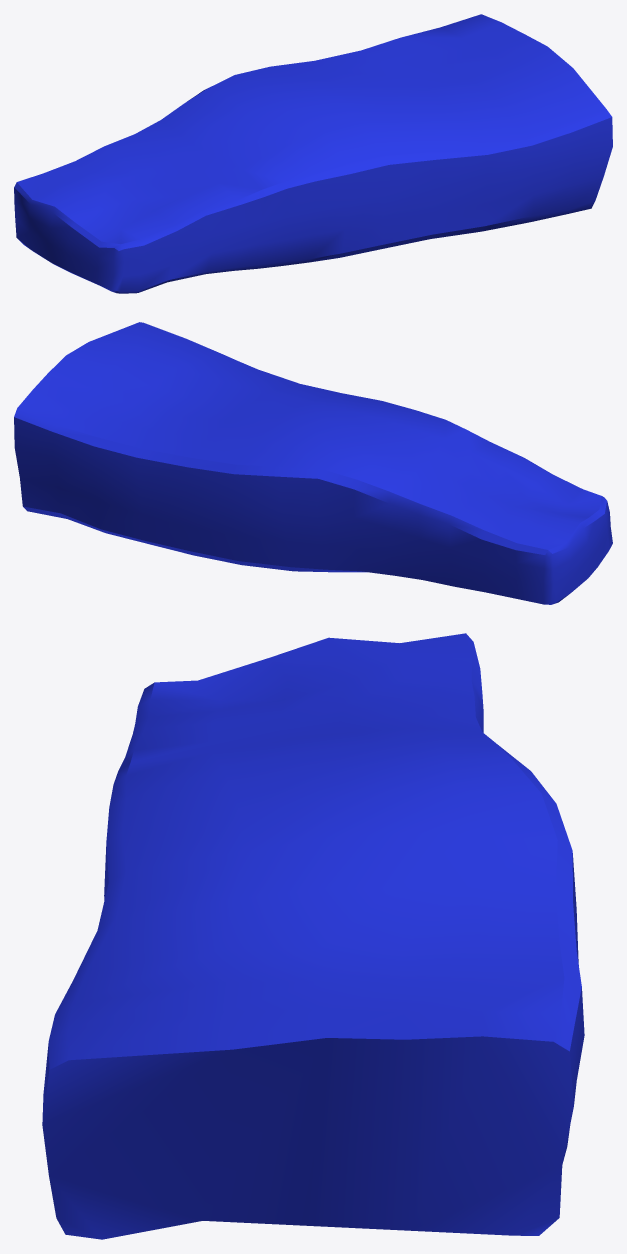
File: veal_n1.1_low.fbx
3 renders of one model, top to bottom at view 1: azimuth 30°, elevation 25°; view 2: azimuth 150°, elevation 25°; view 3: azimuth 270°, elevation 25°, orthographic. The views are drawn at different scales.
Parts seen in each view (by area): view 1: veal__n1.1_low; view 2: veal__n1.1_low; view 3: veal__n1.1_low.
Boxes of the visible parts, bbox=[...] form: veal__n1.1_low: bbox=[14, 14, 612, 293]; veal__n1.1_low: bbox=[14, 322, 612, 604]; veal__n1.1_low: bbox=[42, 633, 584, 1239].
Size of the model in its own units: 29.45 by 6.34 by 13.74.
